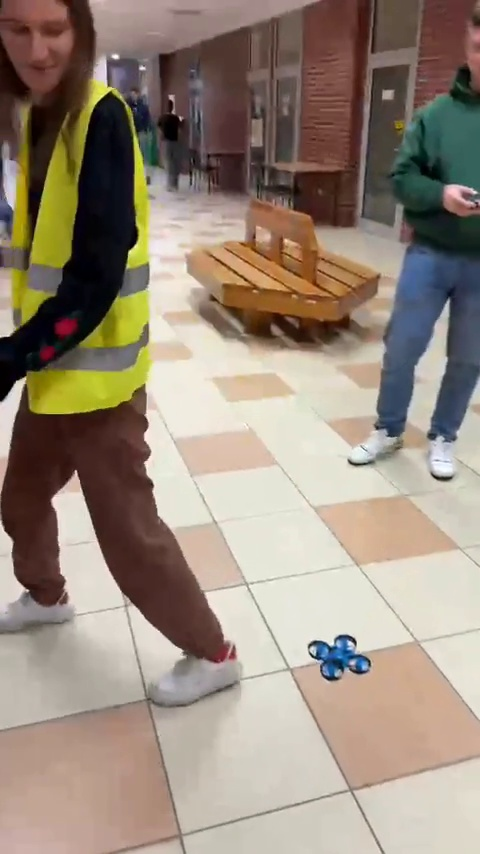drone: (306, 632, 370, 674)
no vest: (354, 8, 480, 478), (158, 99, 192, 193)
vest: (2, 0, 246, 710)
